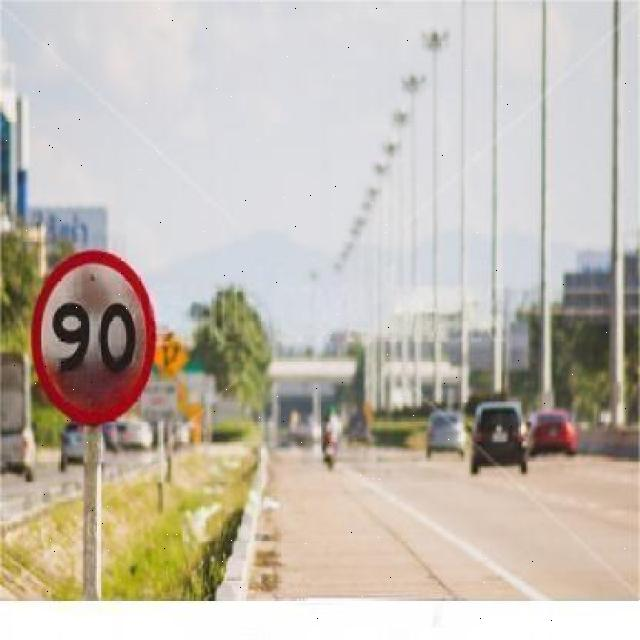speed limit 90: (31, 250, 156, 424)
